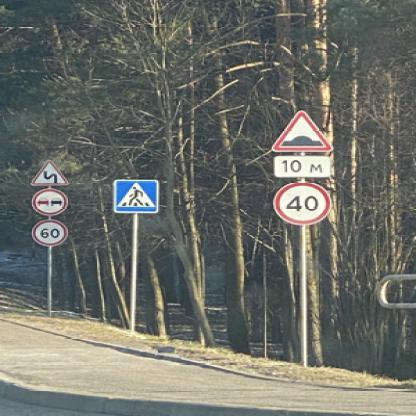crosswalk: (112, 179, 158, 212)
speedlimit: (272, 182, 328, 225), (28, 218, 64, 246)
